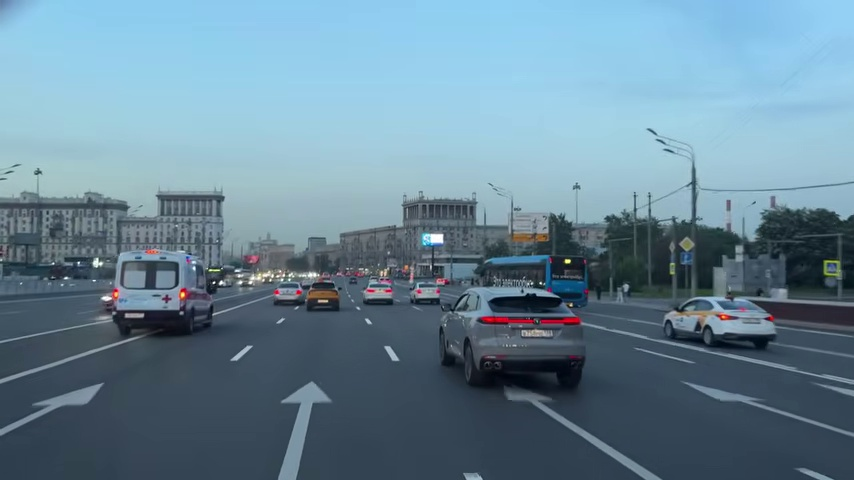apagada: (642, 125, 675, 158)
